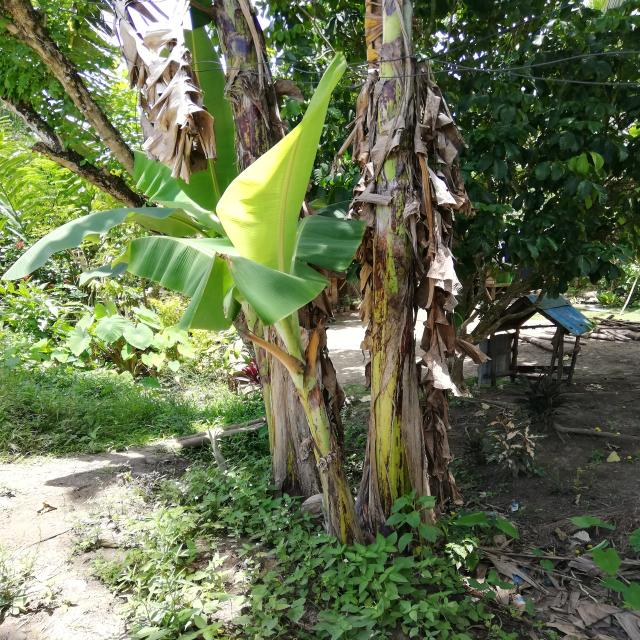Banana-plant: (339, 10, 474, 537), (264, 312, 360, 550)
